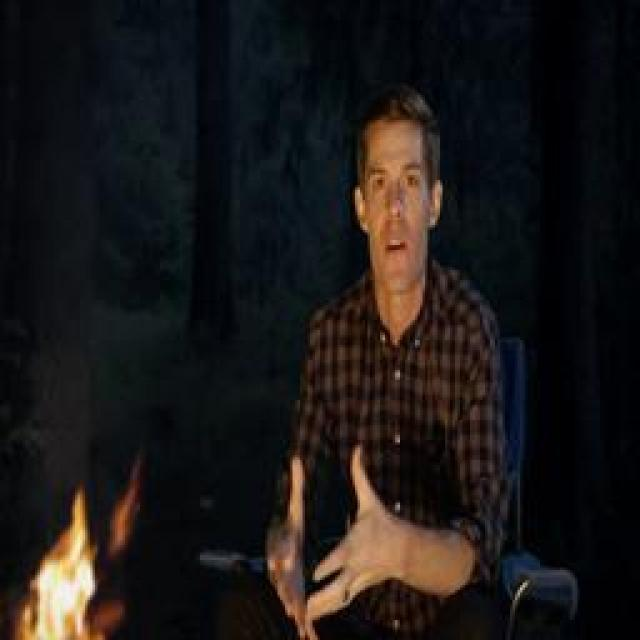Fire: (16, 460, 139, 640)
